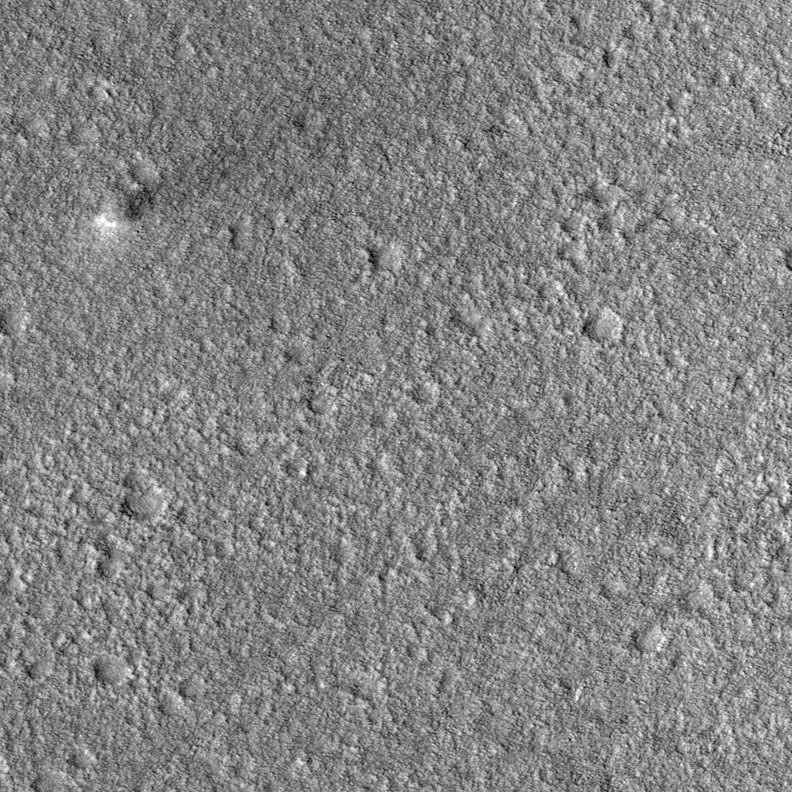dust_devil: (91, 180, 164, 241)
